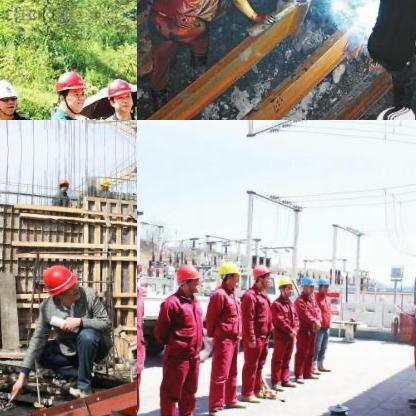Helmet: (38, 261, 80, 301), (51, 68, 86, 110), (105, 74, 135, 116), (173, 260, 201, 294), (0, 76, 20, 118), (216, 257, 240, 289), (250, 261, 272, 289), (298, 271, 314, 292), (278, 274, 294, 294), (316, 274, 328, 296), (57, 176, 69, 194), (99, 176, 109, 190)
